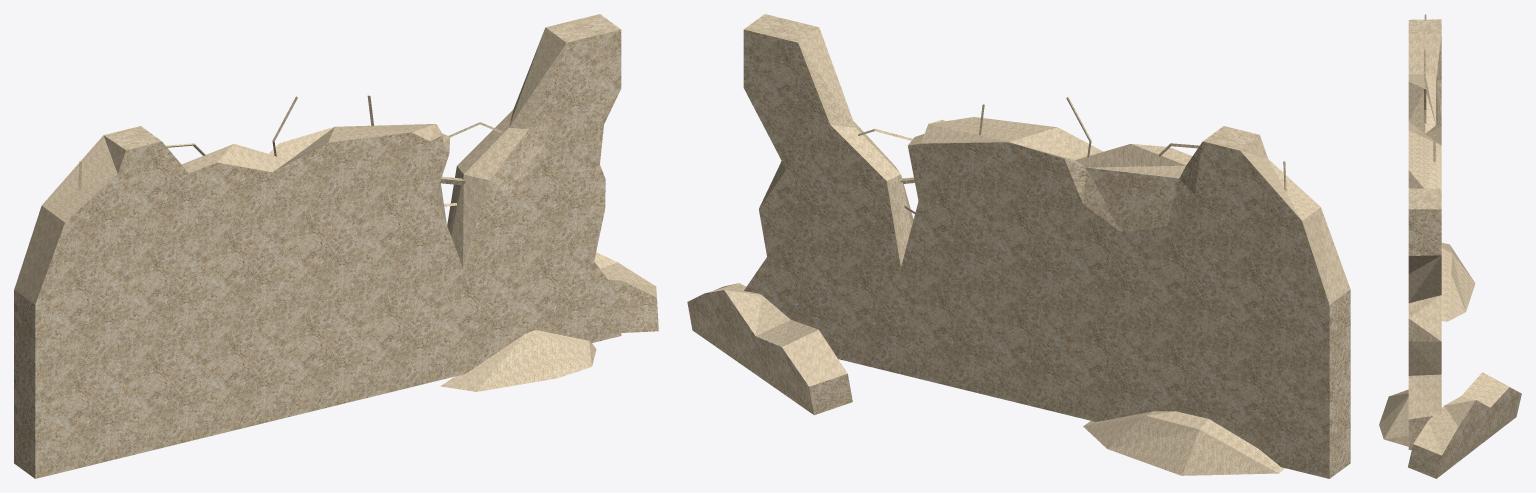
File: thm_tato_imprv_wall_ruin_s02_l1.fbx
3 views of the same model, side by side, from view 1: azimuth 30°, elevation 25°; view 2: azimuth 150°, elevation 25°; view 3: azimuth 270°, elevation 25° (orthographic). The views are drawn at different scales.
Visible parts, largest first — view 1: mesh_node; view 2: mesh_node; view 3: mesh_node.
Boxes of the visible parts, x1=… form: mesh_node: x1=14, y1=14, x2=658, y2=478; mesh_node: x1=687, y1=14, x2=1350, y2=478; mesh_node: x1=1379, y1=14, x2=1521, y2=478.
Size of the model in its own units: 8.77 by 4.22 by 2.15.
